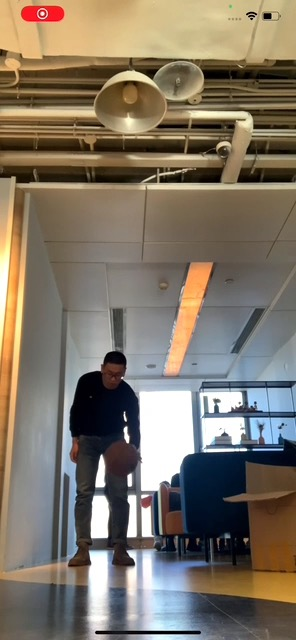ball: (104, 440, 139, 477)
